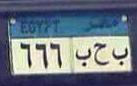6: (49, 41, 65, 70), (35, 41, 49, 71), (19, 42, 33, 69)
7aa: (92, 40, 110, 67)
baa: (111, 45, 129, 66), (74, 47, 92, 68)
